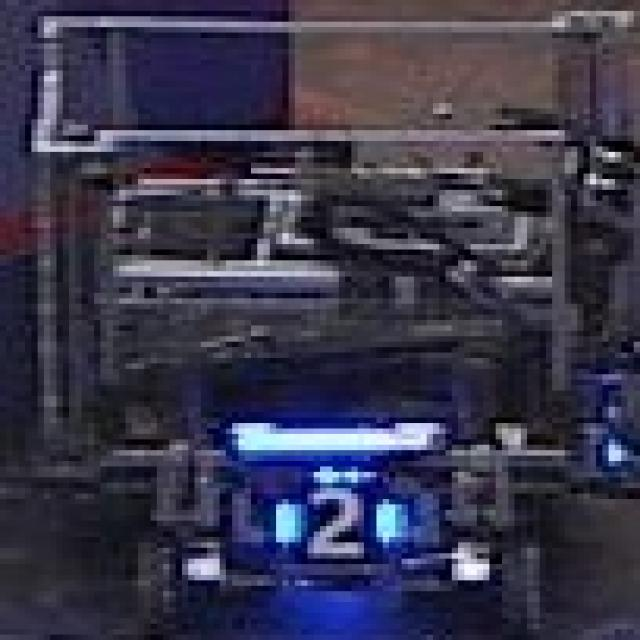B2: (261, 478, 398, 554)
